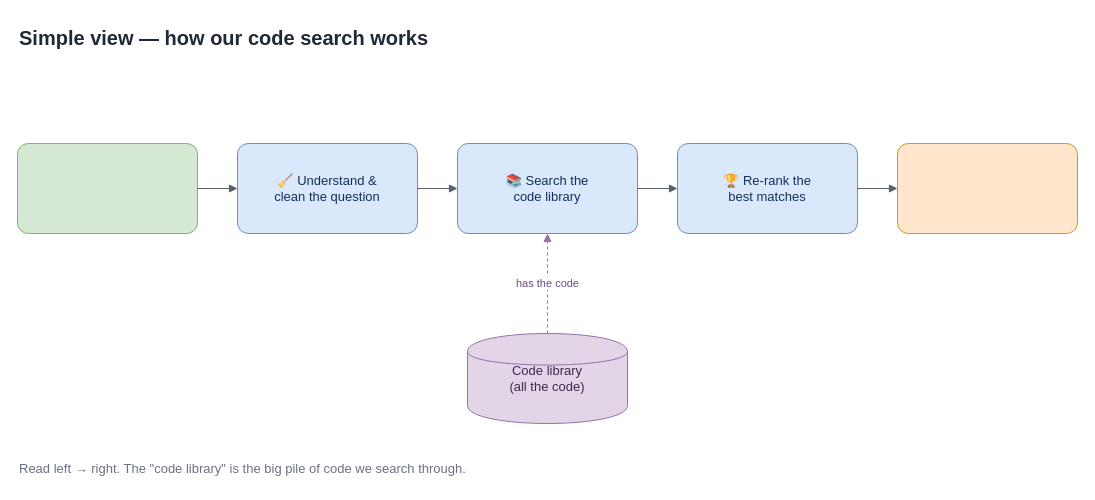
Some shapes in this 1095 by 500 pixel diagram are drawn without their labels. Each missing label, with the centre of its shape:
"✅ Top code snippets" goes at (987,188).
"🔍 Your question (plain English)" goes at (107,188).
